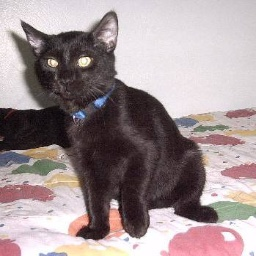cat: (20, 15, 228, 240)
